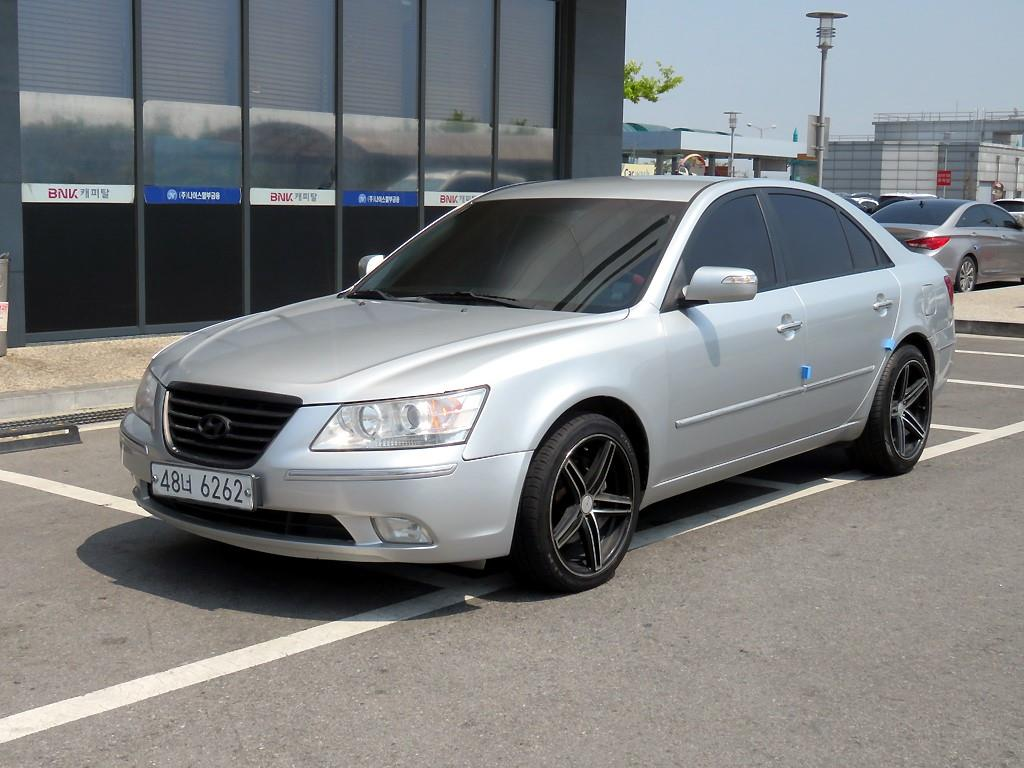plate: (151, 462, 253, 509)
